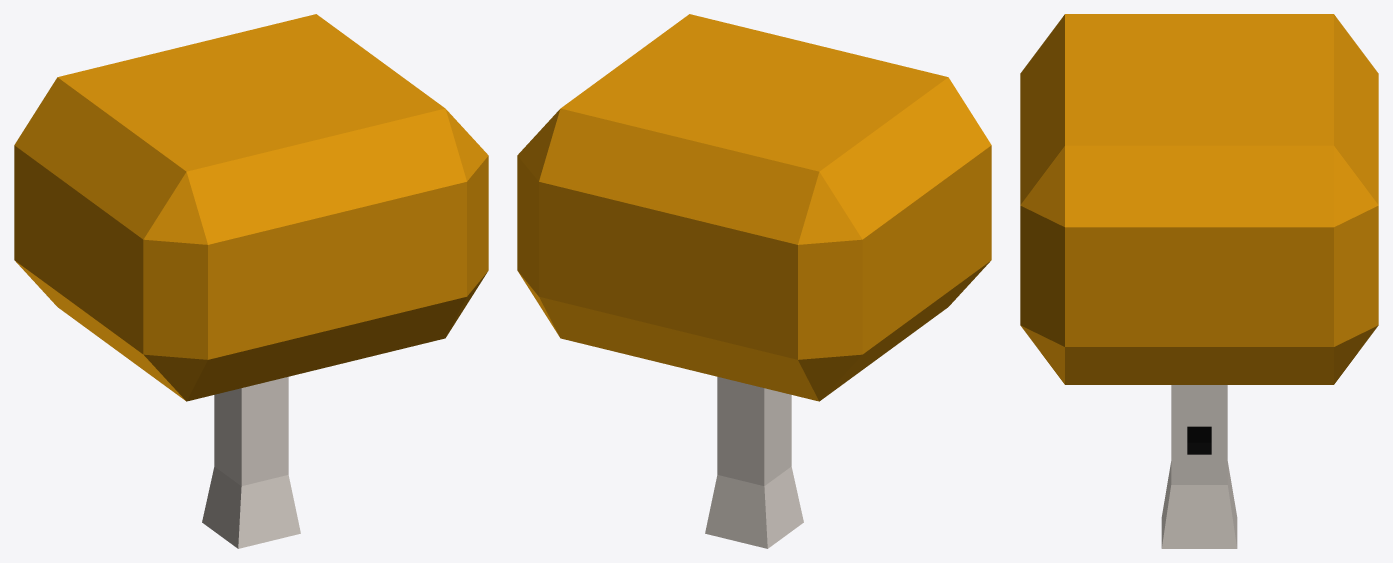
The model's file is tree_2.gltf.
3 renders of one model, left to right at view 1: azimuth 30°, elevation 25°; view 2: azimuth 150°, elevation 25°; view 3: azimuth 270°, elevation 25°, orthographic. The views are drawn at different scales.
Visible parts, largest first — view 1: rounded_cuboid, cuboid; view 2: rounded_cuboid, cuboid; view 3: rounded_cuboid, cuboid.
Boxes of the visible parts, x1=… form: rounded_cuboid: x1=14, y1=14, x2=488, y2=401; cuboid: x1=202, y1=377, x2=300, y2=548; rounded_cuboid: x1=517, y1=14, x2=991, y2=401; cuboid: x1=705, y1=377, x2=803, y2=548; rounded_cuboid: x1=1020, y1=14, x2=1378, y2=384; cuboid: x1=1161, y1=385, x2=1237, y2=548.
Size of the model in its own units: 2.75 by 3.31 by 2.38.
Materials: 2 (2 with a texture image).
